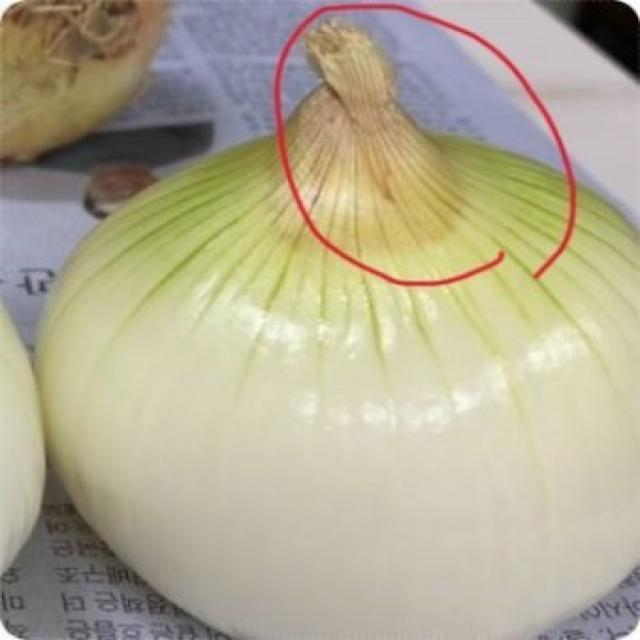onion: (24, 29, 640, 640)
